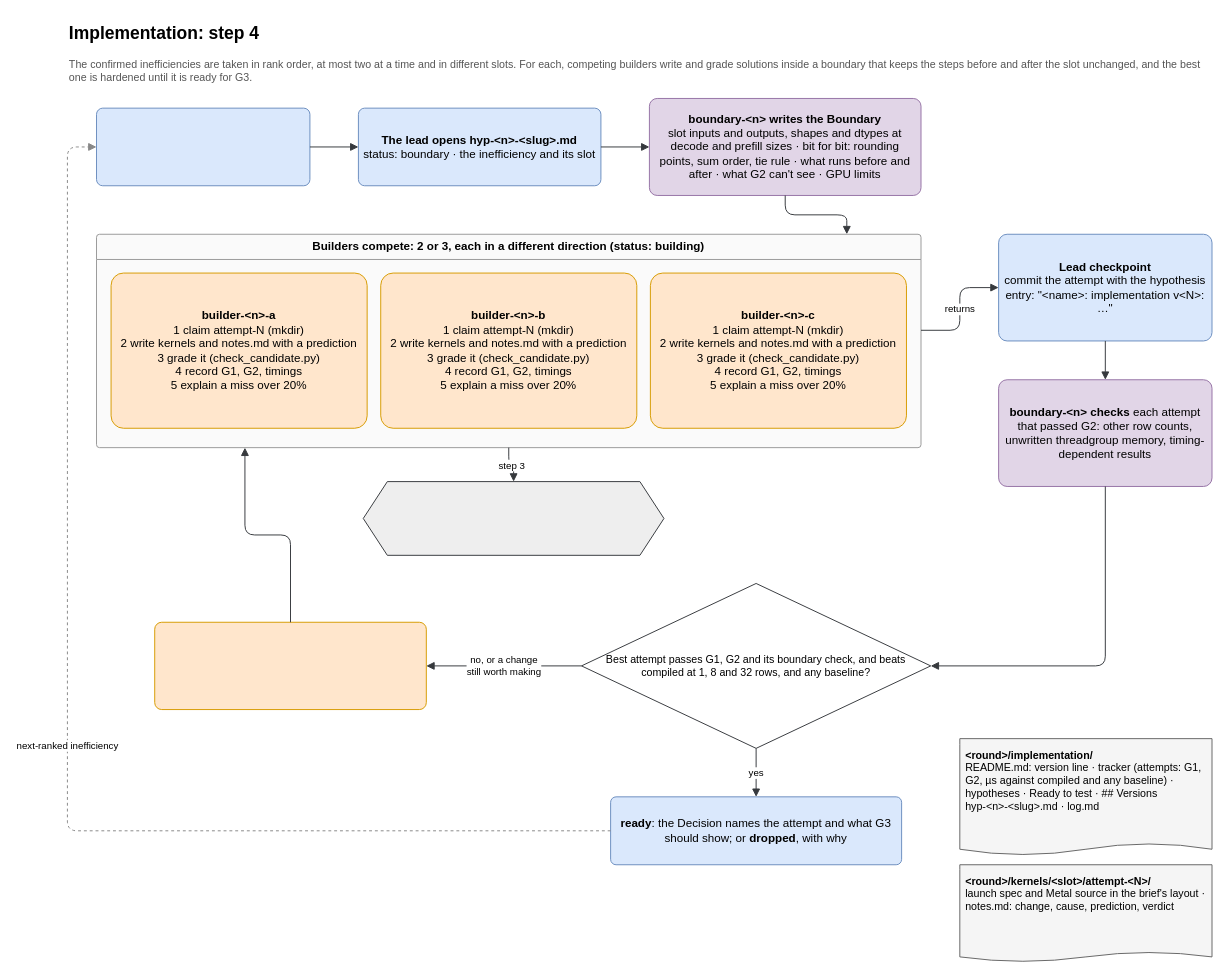
Some shapes in this 1229 by 979 pixel diagram are drawn without their labels. Each missing label, with the centre of its shape:
GPU queue one grader run at a time; a second run waits its turn: (x=513, y=518)
Harden (status: hardening) a builder makes the best attempt's next single change: (x=290, y=665)
Ranked inefficiencies from exploration/README.md: (x=203, y=146)
